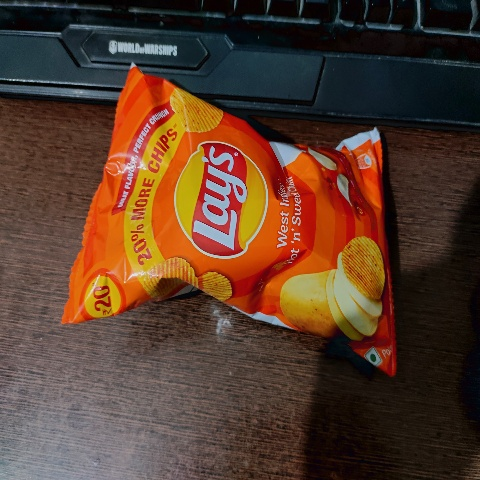lays_orange_pack: (42, 44, 411, 398)
